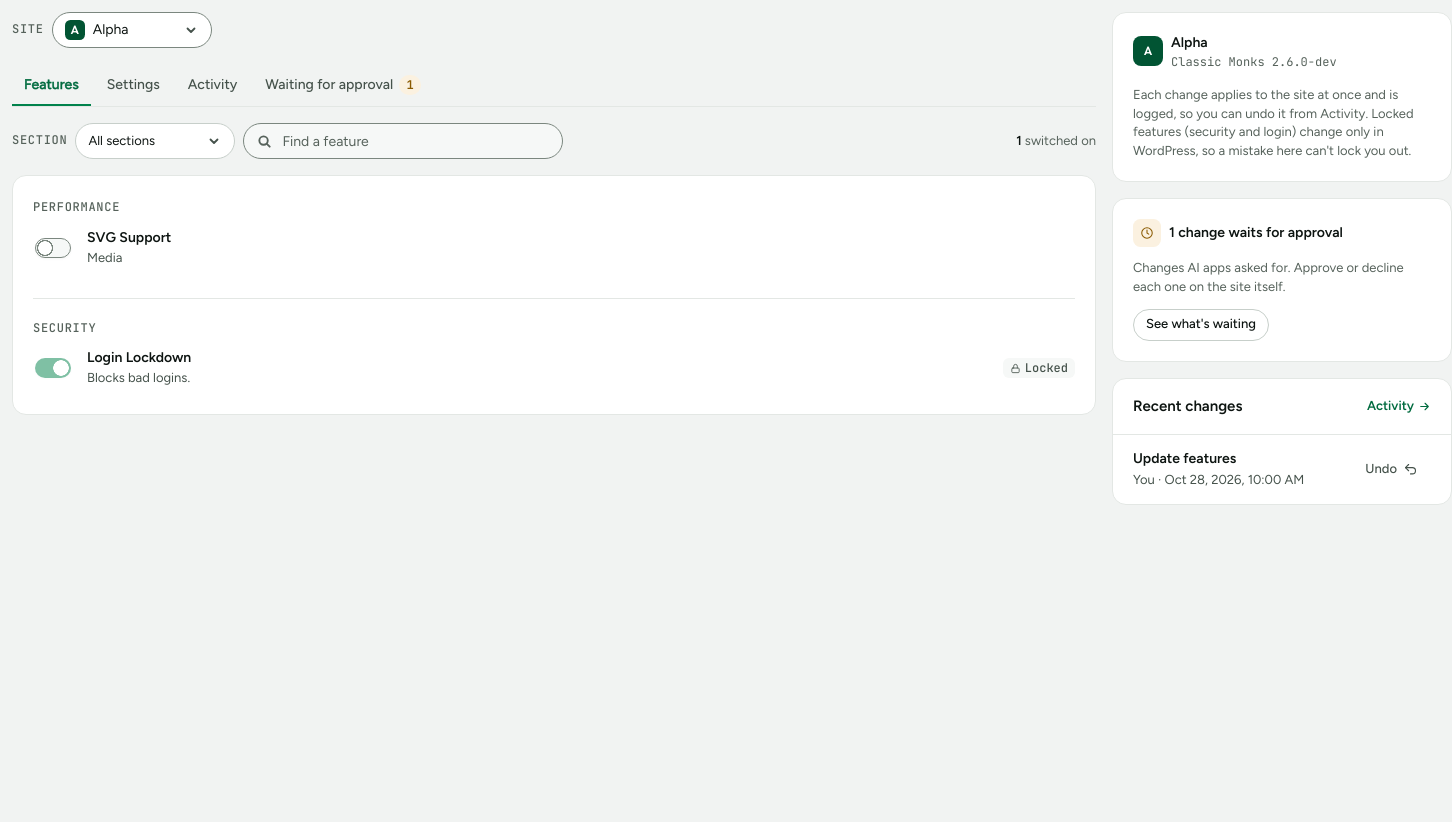
Classic Monks › turns a feature on and undoes it
Click the switch labelled "SVG Support": (53, 248) x1=35 y1=238 x2=71 y2=258
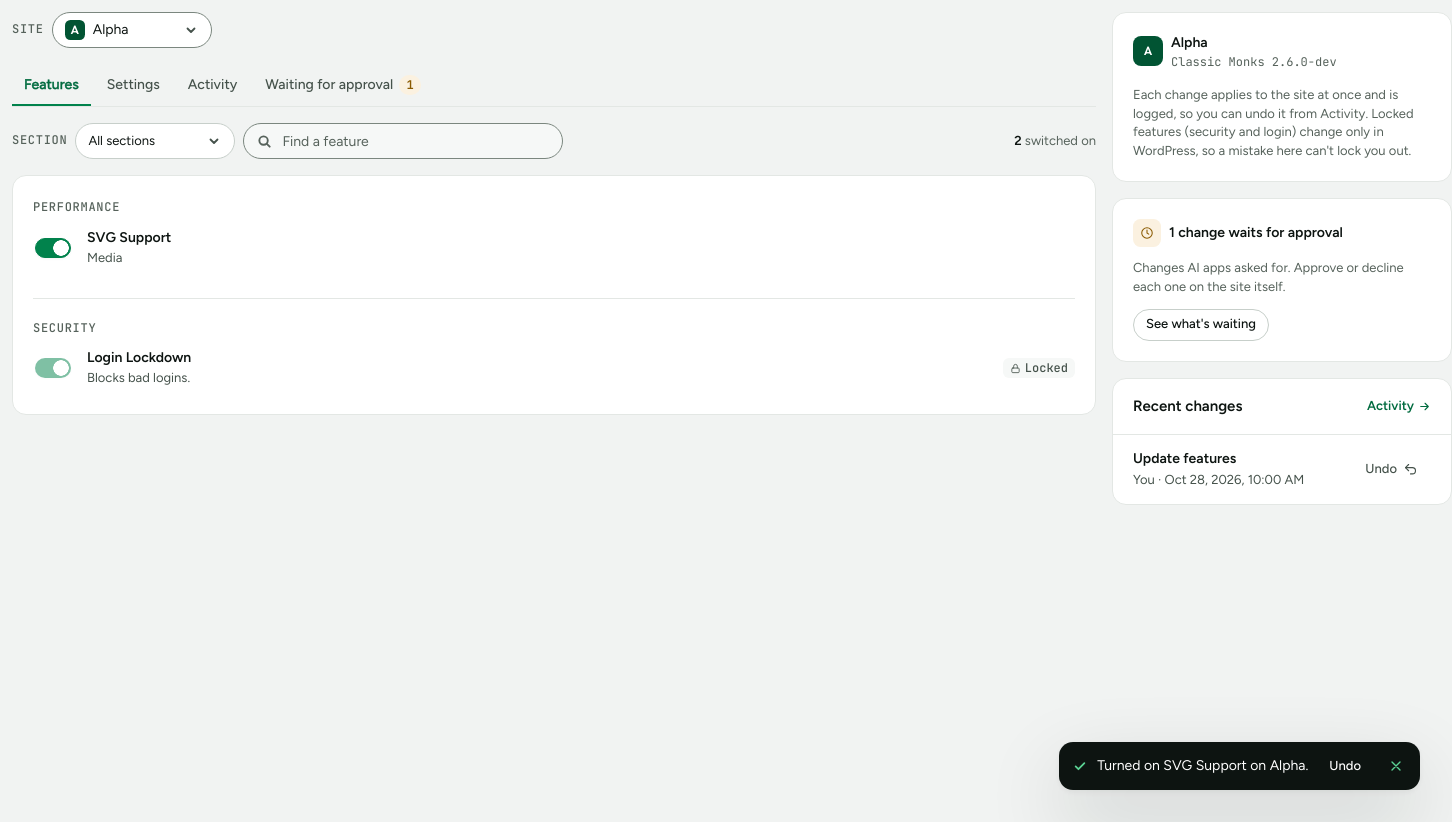
Expected: the switch labelled "SVG Support" is checked, x1=35 y1=238 x2=71 y2=258
Expected: the text "Turned on SVG Support on Alpha." is shown, x1=1097 y1=756 x2=1308 y2=776
Click the button "Undo" next to "Turned on SVG Support on Alpha.": (1345, 766) x1=1318 y1=752 x2=1372 y2=780
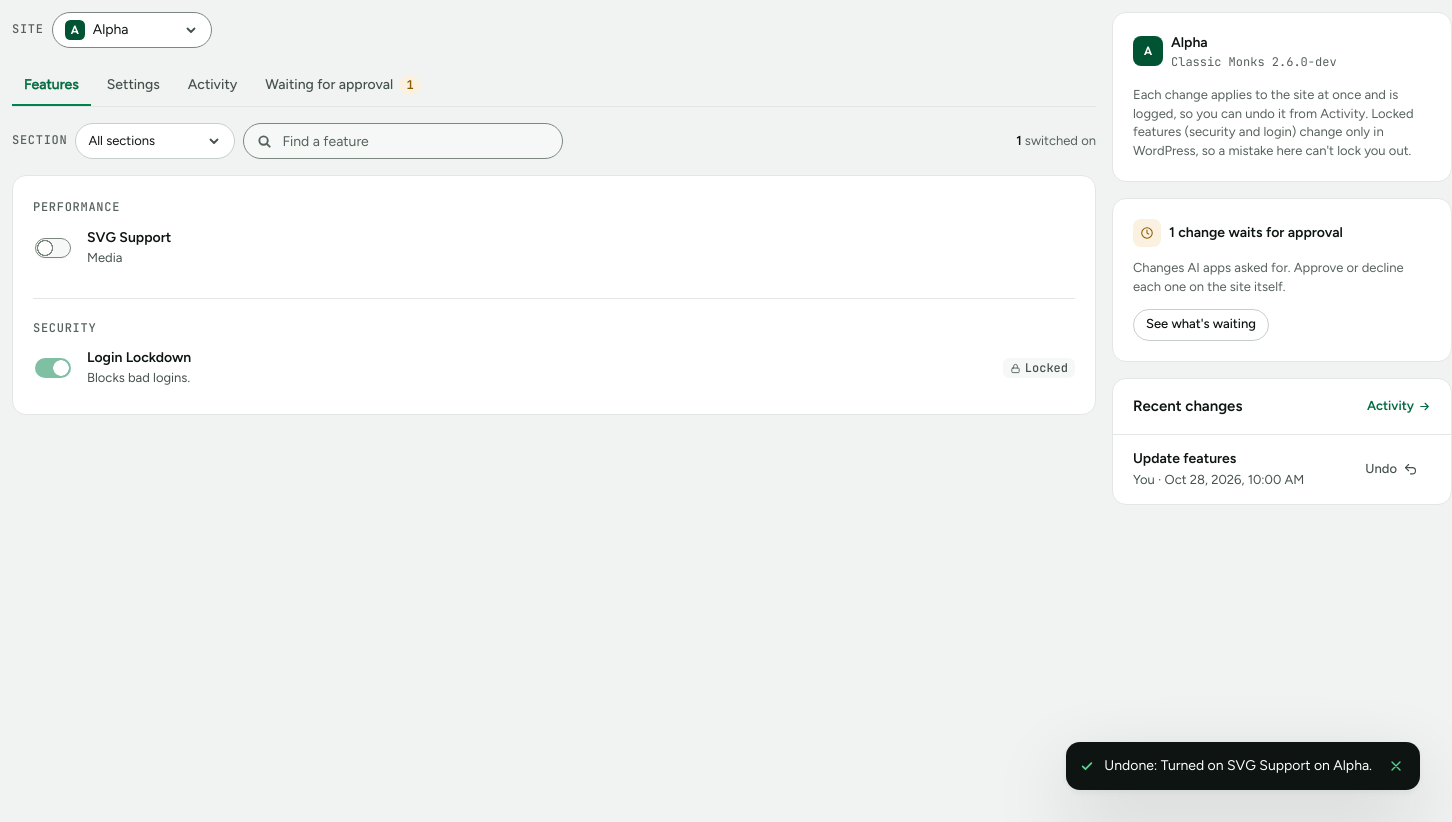
Expected: the switch labelled "SVG Support" is not checked, x1=35 y1=238 x2=71 y2=258
Expected: the text "Undone: Turned on SVG Support on Alpha." is shown, x1=1104 y1=756 x2=1372 y2=776
